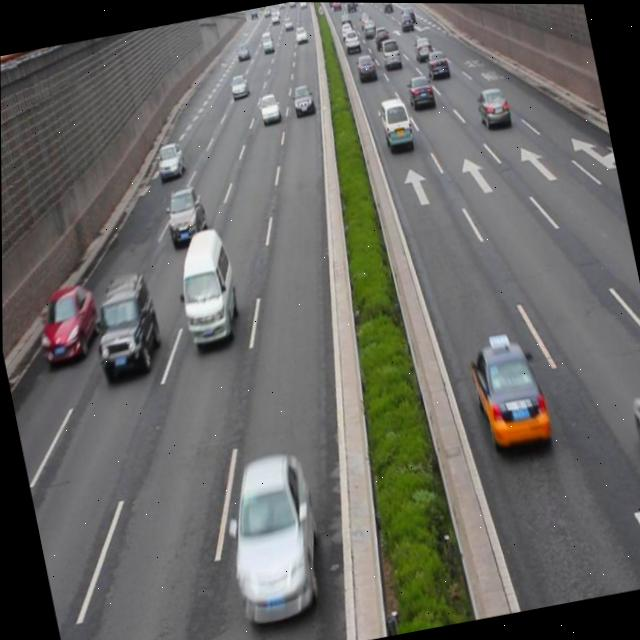car: (213, 450, 331, 620), (465, 333, 551, 452), (85, 268, 166, 377), (31, 279, 104, 366), (161, 185, 210, 248), (475, 83, 511, 129), (628, 378, 640, 512), (153, 140, 187, 181), (404, 72, 435, 114)
truck: (169, 227, 244, 346), (376, 95, 416, 151)
